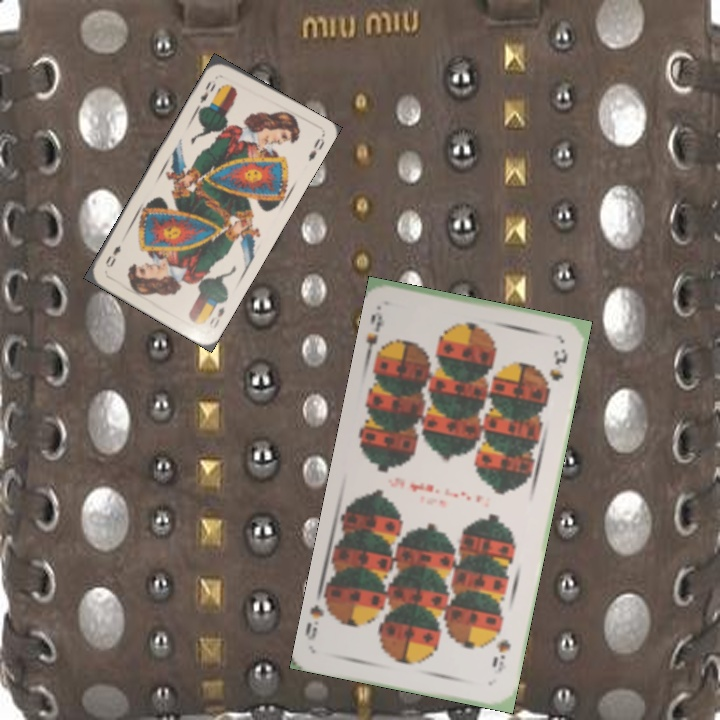EO: (196, 76, 219, 106), (205, 303, 227, 331)
S9: (361, 303, 390, 363), (488, 635, 513, 675)
